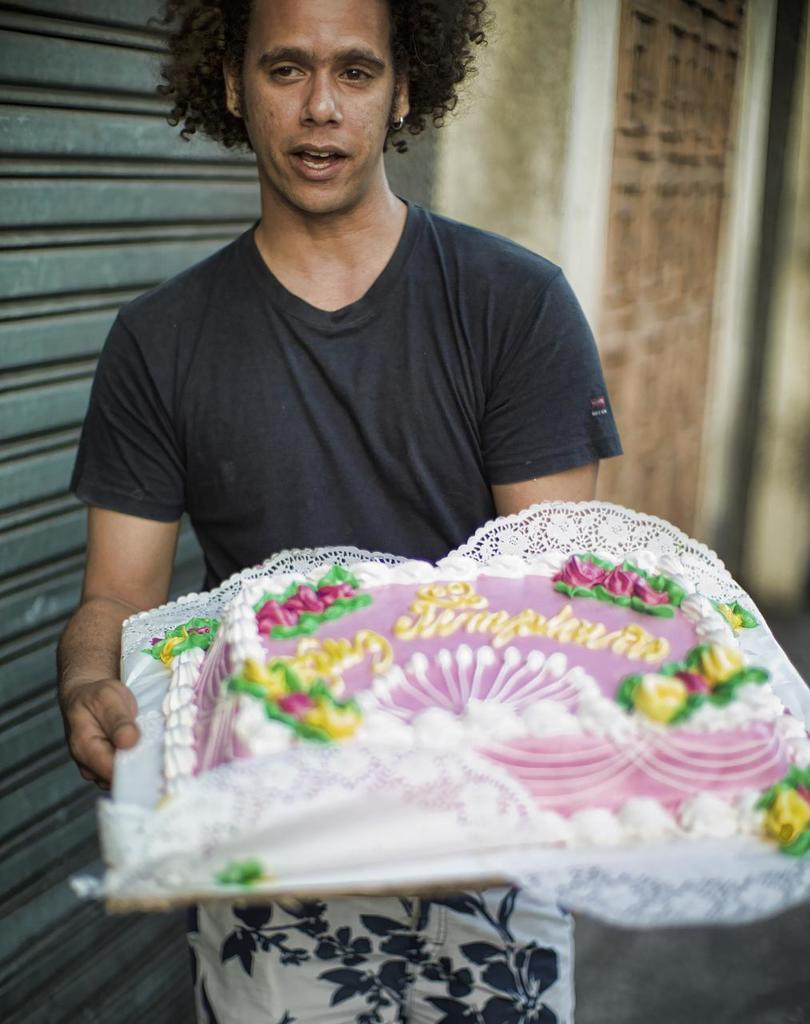cake: (141, 557, 809, 856)
